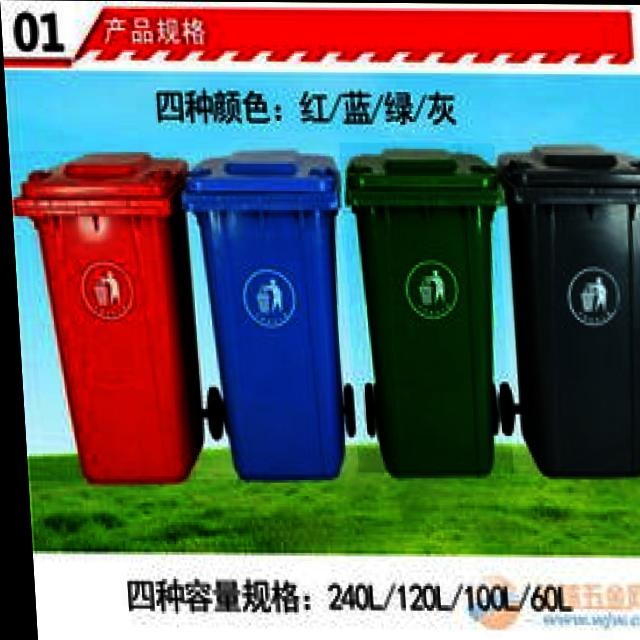garbage_bin: (7, 151, 199, 482), (337, 142, 513, 473), (175, 149, 350, 480), (492, 138, 640, 477)
